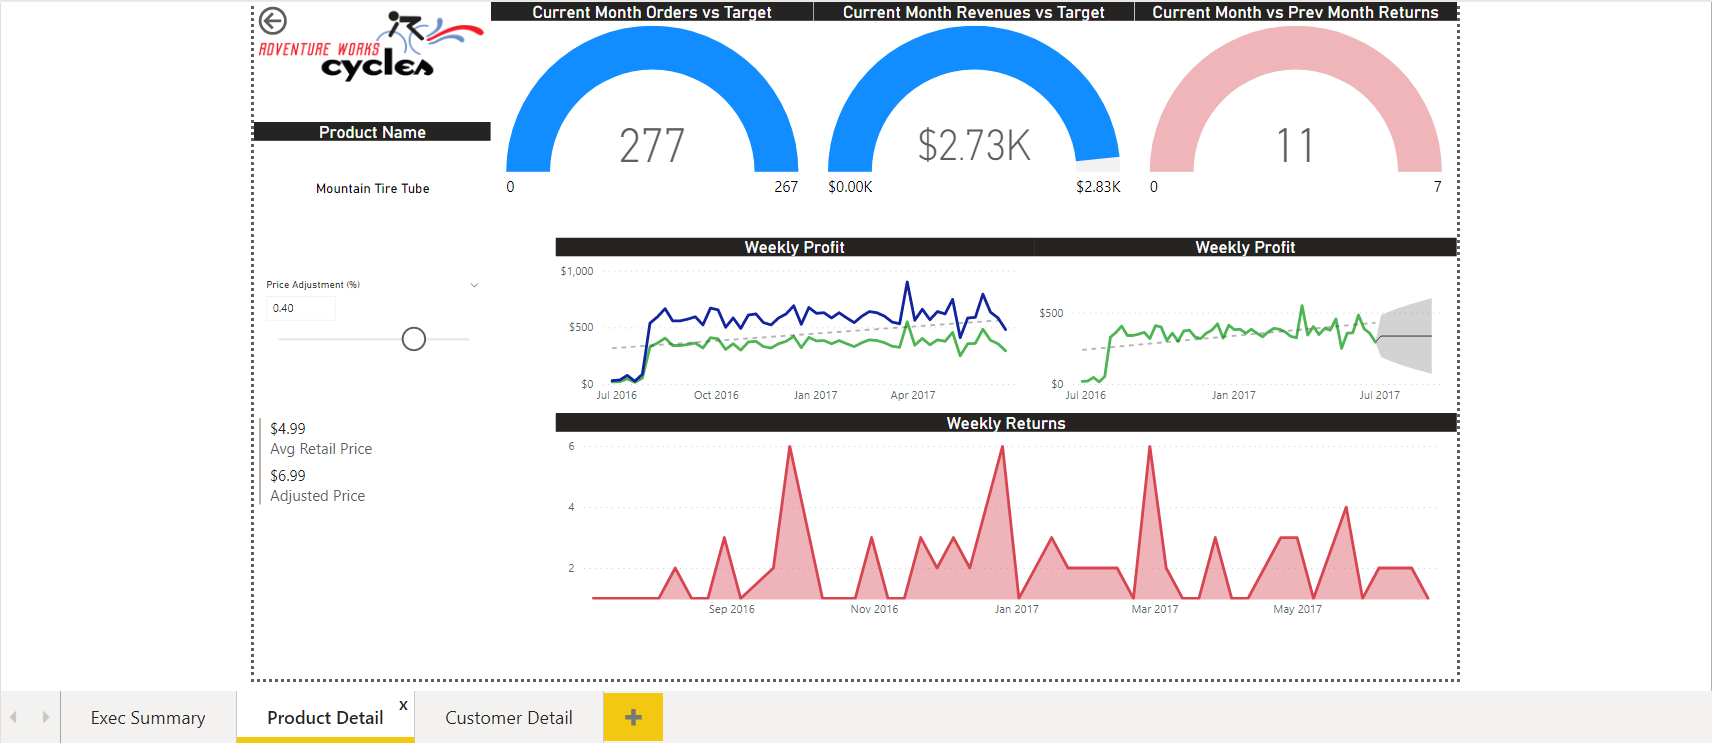

This screenshot's page, from the dashboard's own definition file:
{"tool":"powerbi","page":{"name":"Product Detail","canvas":[1280,720],"ordinal":1},"visuals":[{"type":"lineChart","title":"Weekly Profit","fields":{"Category":["AW_Calendar_Lookup.Start of Week"],"Y":["AW_Sales.Total Profit"]},"box":[830.2,250.6,450.2,186.8],"z":0},{"type":"areaChart","title":"Weekly Returns","fields":{"Category":["AW_Calendar_Lookup.Start of Week"],"Y":["AW_Returns.Total Returns"]},"box":[320.9,437.4,959.5,228.3],"z":1000},{"type":"gauge","title":"Current Month Orders vs Target","fields":{"Y":["AW_Sales.Total Orders"],"MaxValue":["AW_Sales.Order Target"]},"box":[252.2,0,343.2,217.1],"z":2000},{"type":"gauge","title":"Current Month Revenues vs Target","fields":{"Y":["AW_Sales.Total Revenue"],"MaxValue":["AW_Sales.Revenue Target"]},"box":[595.5,0,341.6,217.1],"z":3000},{"type":"gauge","title":"Current Month vs Prev Month Returns","fields":{"Y":["AW_Returns.Total Returns"],"MaxValue":["AW_Returns.Prev Month Returns"]},"box":[937.1,0,343.2,217.1],"z":4000},{"type":"image","box":[0,0,252.2,94.2],"z":5000},{"type":"card","title":"Product Name","fields":{"Values":["Min(AW_Product_Lookup.ProductName)"]},"box":[0,127.7,252.2,122.9],"z":6000},{"type":"actionButton","box":[0,0,100,40],"z":7000},{"type":"slicer","fields":{"Values":["Price Adjustment (%).Price Adjustment (%)"]},"box":[0,289,252.2,121.3],"z":8000},{"type":"multiRowCard","fields":{"Values":["AW_Sales.Avg Retail Price","AW_Sales.Adjusted Price"]},"box":[0,437.4,237.9,126.1],"z":9000},{"type":"lineChart","title":"Weekly Profit","fields":{"Category":["AW_Calendar_Lookup.Start of Week"],"Y":["AW_Sales.Total Profit","AW_Sales.Adjusted Profit"]},"box":[320.9,250.6,509.3,186.8],"z":10000}]}

Visuals, with their boxes on the page's 1280x720 design canvas (x1, y1, x2, y2). These are canvas units, not pixel positions in the 1712x743 screenshot, which may show the page scaled, cropped or inside an application window:
"Weekly Profit" lineChart: {"left": 830, "top": 251, "right": 1280, "bottom": 437}
"Weekly Returns" areaChart: {"left": 321, "top": 437, "right": 1280, "bottom": 666}
"Current Month Orders vs Target" gauge: {"left": 252, "top": 0, "right": 595, "bottom": 217}
"Current Month Revenues vs Target" gauge: {"left": 596, "top": 0, "right": 937, "bottom": 217}
"Current Month vs Prev Month Returns" gauge: {"left": 937, "top": 0, "right": 1280, "bottom": 217}
image: {"left": 0, "top": 0, "right": 252, "bottom": 94}
"Product Name" card: {"left": 0, "top": 128, "right": 252, "bottom": 251}
actionButton: {"left": 0, "top": 0, "right": 100, "bottom": 40}
slicer - Price Adjustment (%).Price Adjustment (%): {"left": 0, "top": 289, "right": 252, "bottom": 410}
multiRowCard - AW_Sales.Avg Retail Price x AW_Sales.Adjusted Price: {"left": 0, "top": 437, "right": 238, "bottom": 564}
"Weekly Profit" lineChart: {"left": 321, "top": 251, "right": 830, "bottom": 437}
